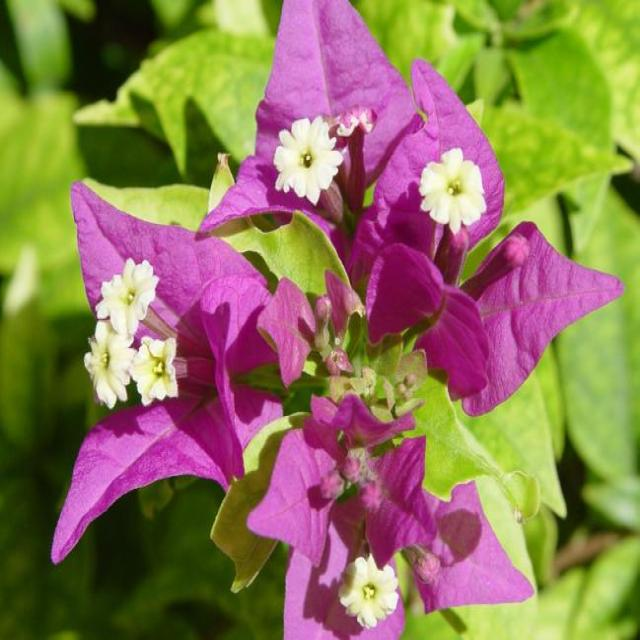bougainvillea: (46, 166, 322, 586), (357, 56, 640, 428), (187, 0, 422, 371), (250, 366, 567, 640)
